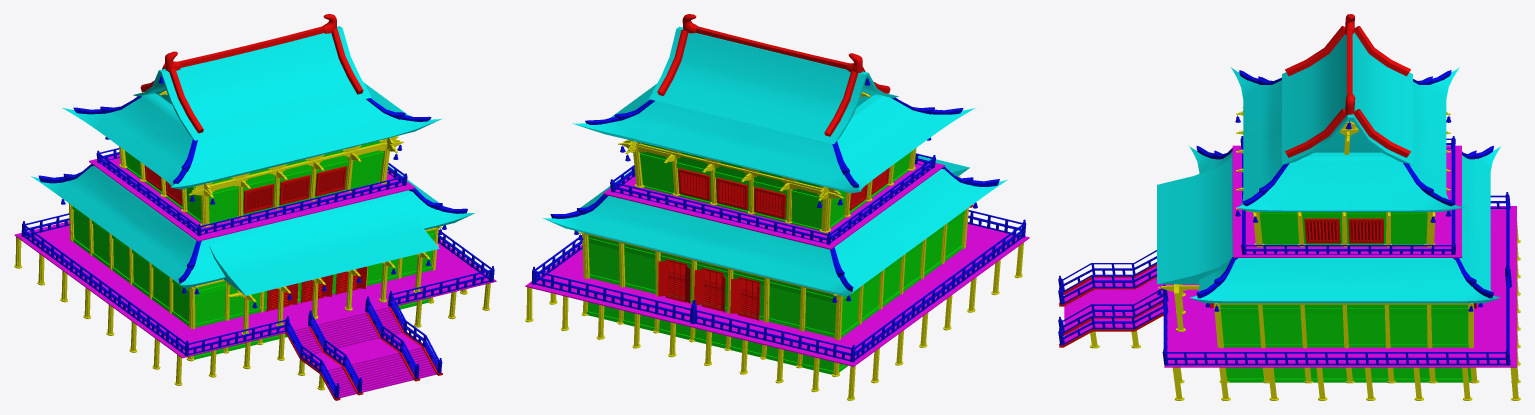
File: lp_temple.fbx
3 renders of one model, left to right at view 1: azimuth 30°, elevation 25°; view 2: azimuth 150°, elevation 25°; view 3: azimuth 270°, elevation 25°, orthographic. The views are drawn at different scales.
Visible parts, largest first — view 1: lp_temple; view 2: lp_temple; view 3: lp_temple.
Part boxes in pixels (x1=…): lp_temple: x1=14, y1=14, x2=496, y2=400; lp_temple: x1=525, y1=14, x2=1029, y2=400; lp_temple: x1=1058, y1=14, x2=1520, y2=400.
Bounding box in the file's own units: 54.11 × 41.63 × 65.7.
